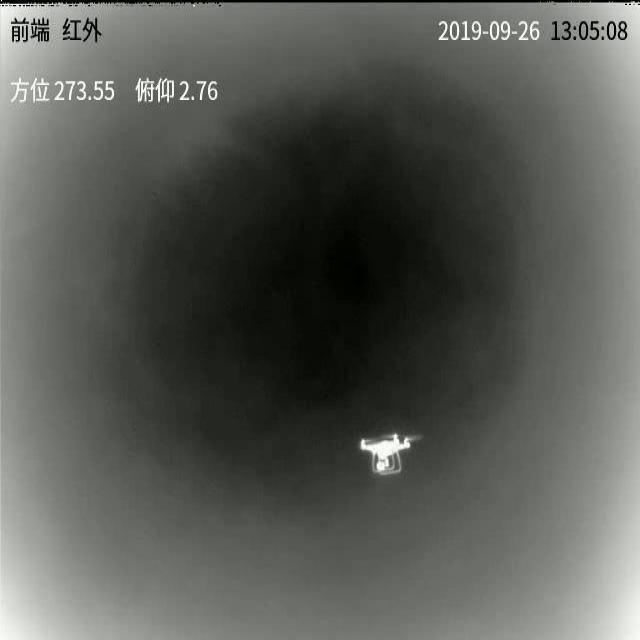drone: (362, 434, 412, 484)
